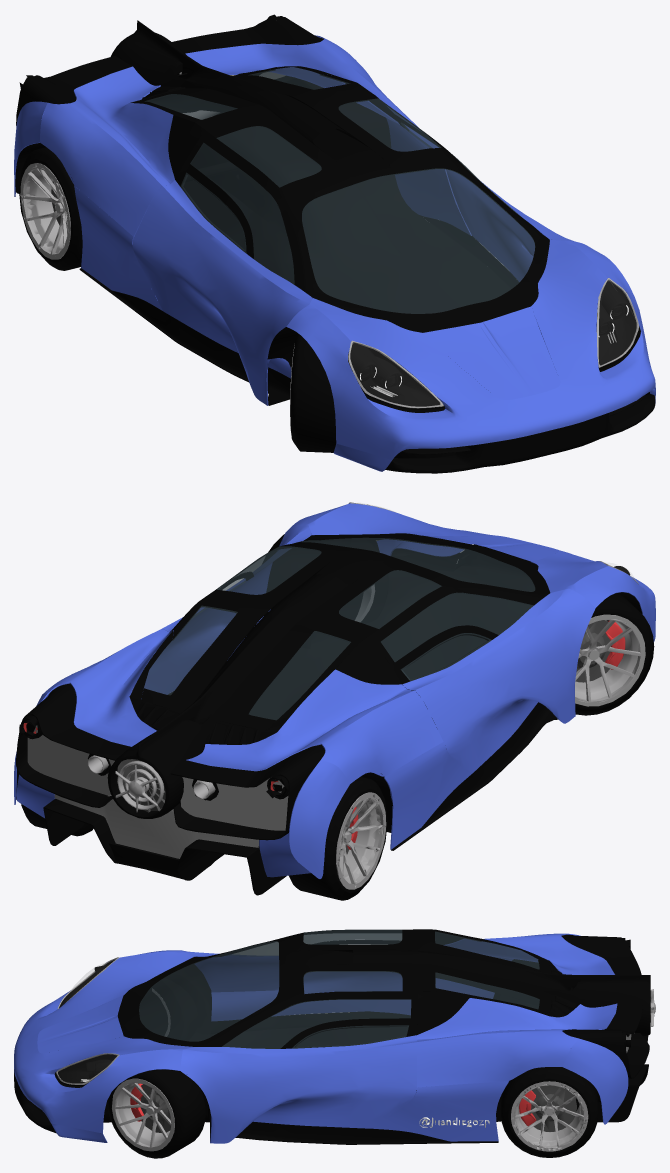
The model's file is gma-t50-distance.glb.
3 views of the same model, one above another, from view 1: azimuth 30°, elevation 25°; view 2: azimuth 150°, elevation 25°; view 3: azimuth 270°, elevation 25° (orthographic). The views are drawn at different scales.
Parts seen in each view (by area): view 1: body, wheel_rear_right, wheel_front_right; view 2: body, wheel_front_right, wheel_rear_right, wheel_front_left; view 3: body, wheel_rear_left, wheel_front_left, wheel_front_right.
Part boxes in pixels (left/top/right/bottom): body: left=14, top=14, right=655, bottom=473; wheel_rear_right: left=19, top=147, right=82, bottom=270; wheel_front_right: left=290, top=334, right=336, bottom=452; body: left=14, top=502, right=655, bottom=895; wheel_front_right: left=575, top=593, right=654, bottom=715; wheel_rear_right: left=289, top=776, right=387, bottom=900; wheel_front_left: left=268, top=534, right=388, bottom=623; body: left=14, top=929, right=655, bottom=1144; wheel_rear_left: left=500, top=1067, right=598, bottom=1157; wheel_front_left: left=107, top=1069, right=205, bottom=1158; wheel_front_right: left=152, top=978, right=198, bottom=1040.
Bounding box in the file's own units: 2.19 × 1.12 × 4.35.
6 materials, 1 textured.
